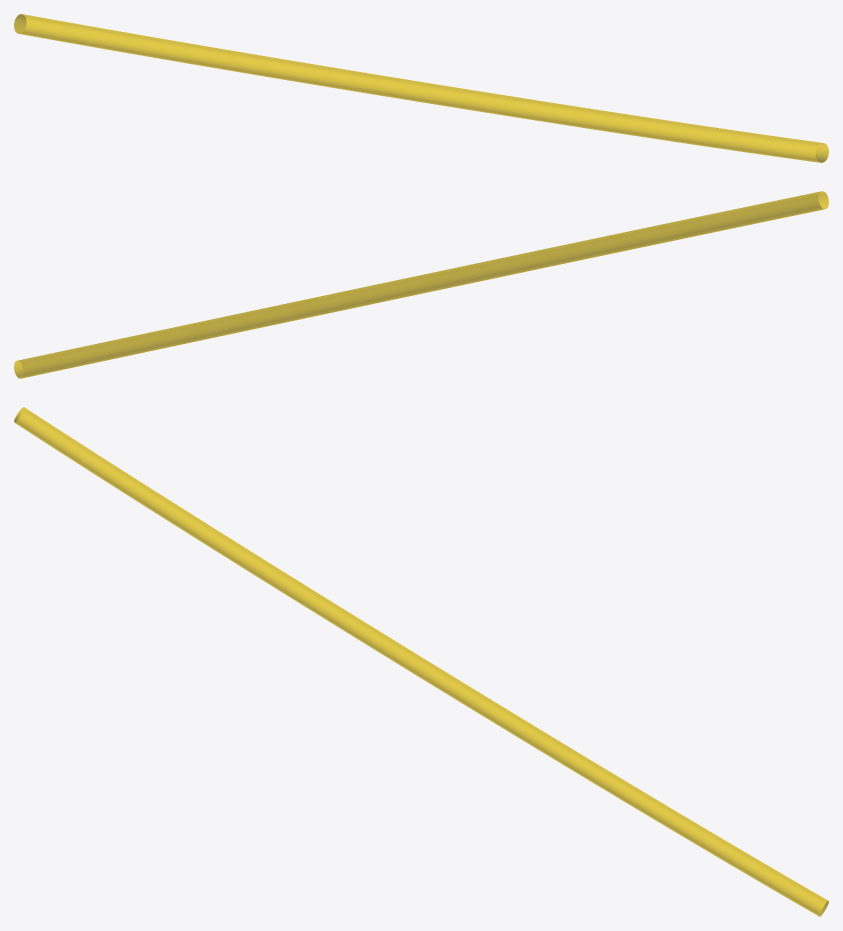
File: Event_100608114_track_23.fbx
3 renders of one model, top to bottom at view 1: azimuth 30°, elevation 25°; view 2: azimuth 150°, elevation 25°; view 3: azimuth 330°, elevation 25°, orthographic. The views are drawn at different scales.
Visible parts, largest first — view 1: Model; view 2: Model; view 3: Model.
Part boxes in pixels (box(x1,y1,x2,y2)): Model: box(14, 14, 828, 162); Model: box(14, 191, 828, 378); Model: box(14, 407, 828, 916).
Size of the model in its own units: 1.95 by 0.832 by 0.1921.
